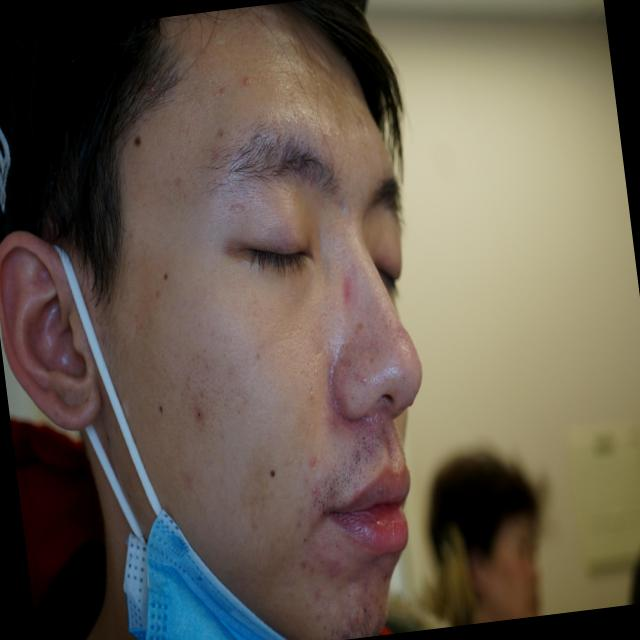blackhead: (310, 568, 314, 572), (303, 538, 306, 542), (220, 132, 222, 136), (356, 610, 358, 614), (342, 502, 344, 505), (380, 372, 382, 374), (403, 376, 405, 378), (360, 380, 361, 382), (363, 396, 364, 398), (363, 391, 364, 393)
